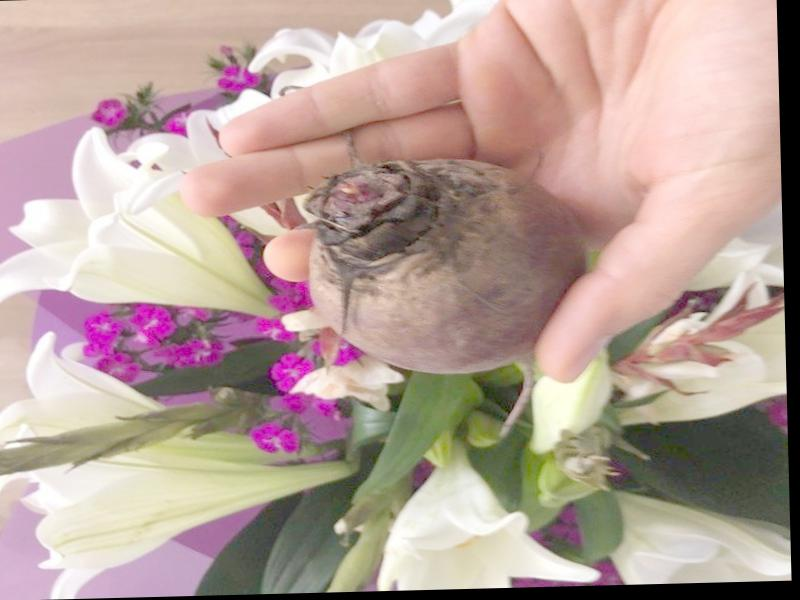Beet: (305, 154, 591, 444)
